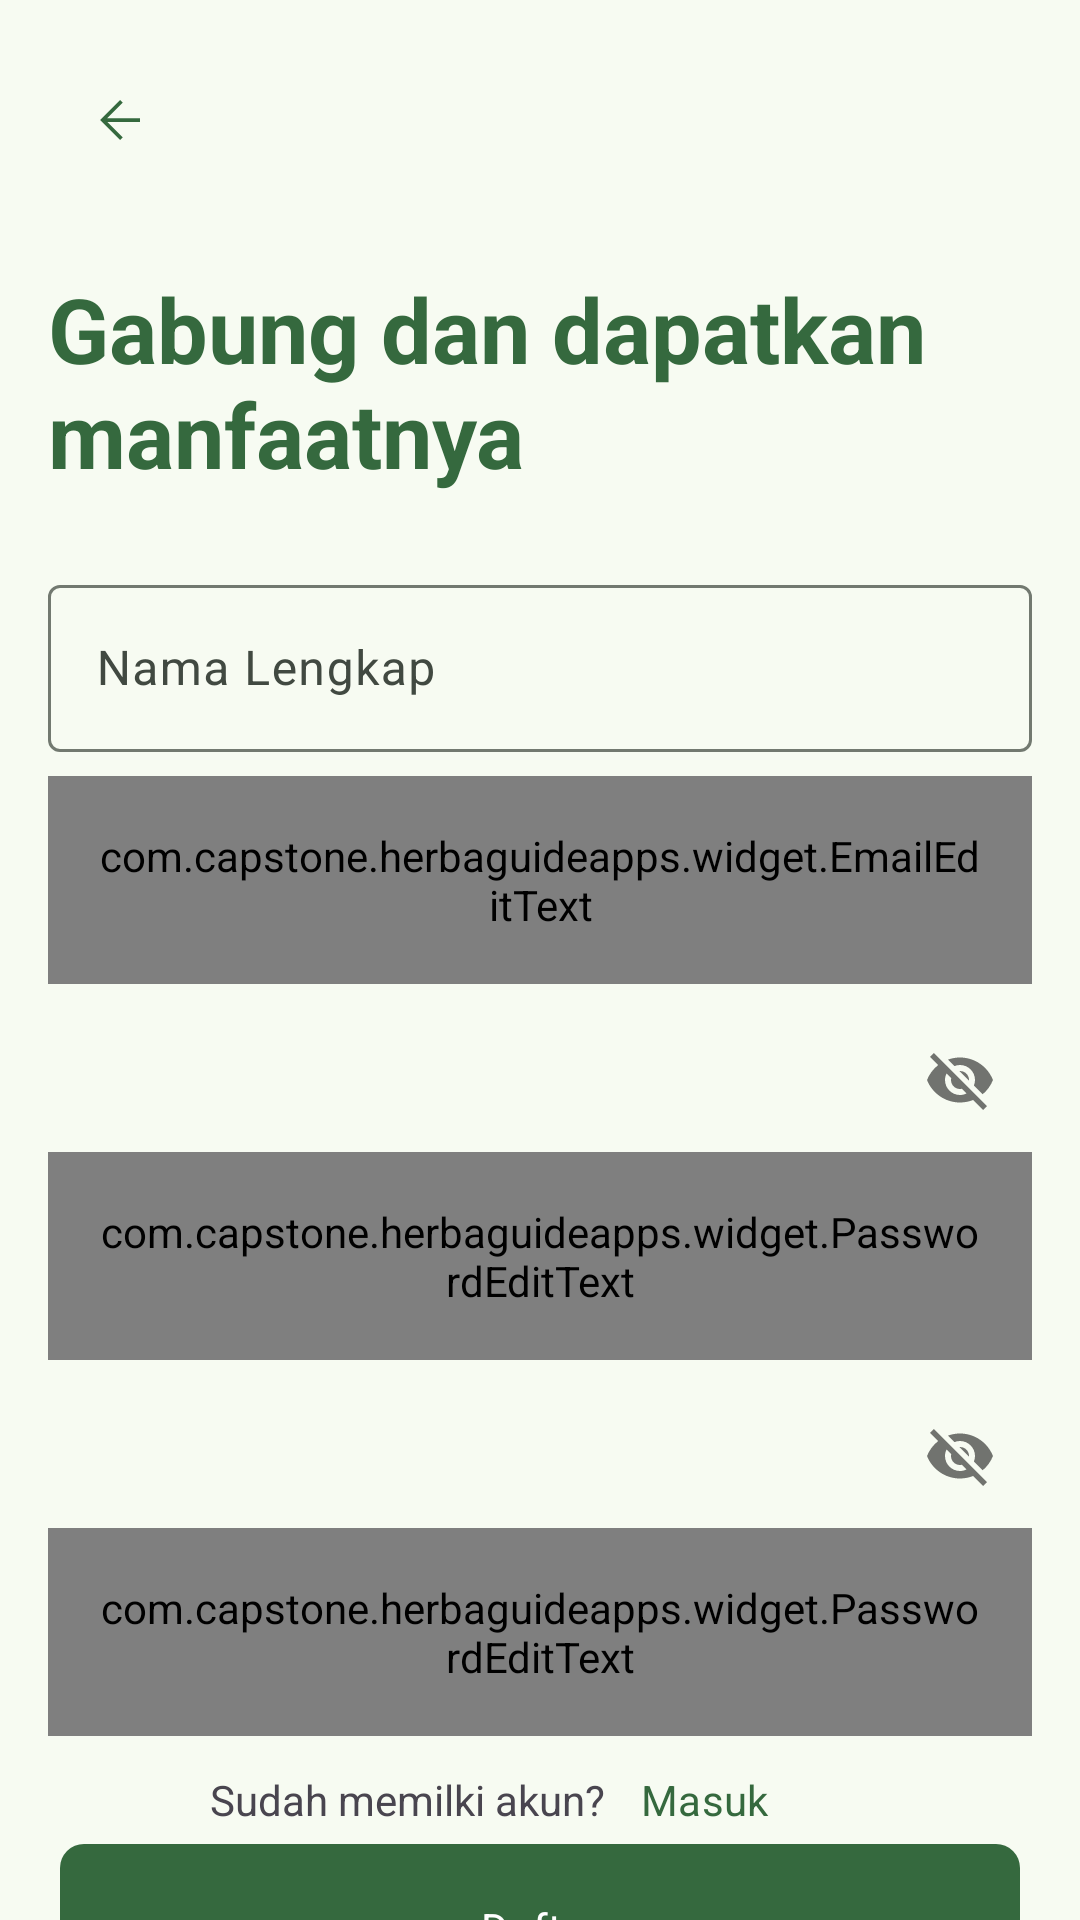

Icon bounding boxes for this 1080x1920 phone screenshot, format (x1, y1, x2, y2):
arrow back: (100, 100, 140, 140)
